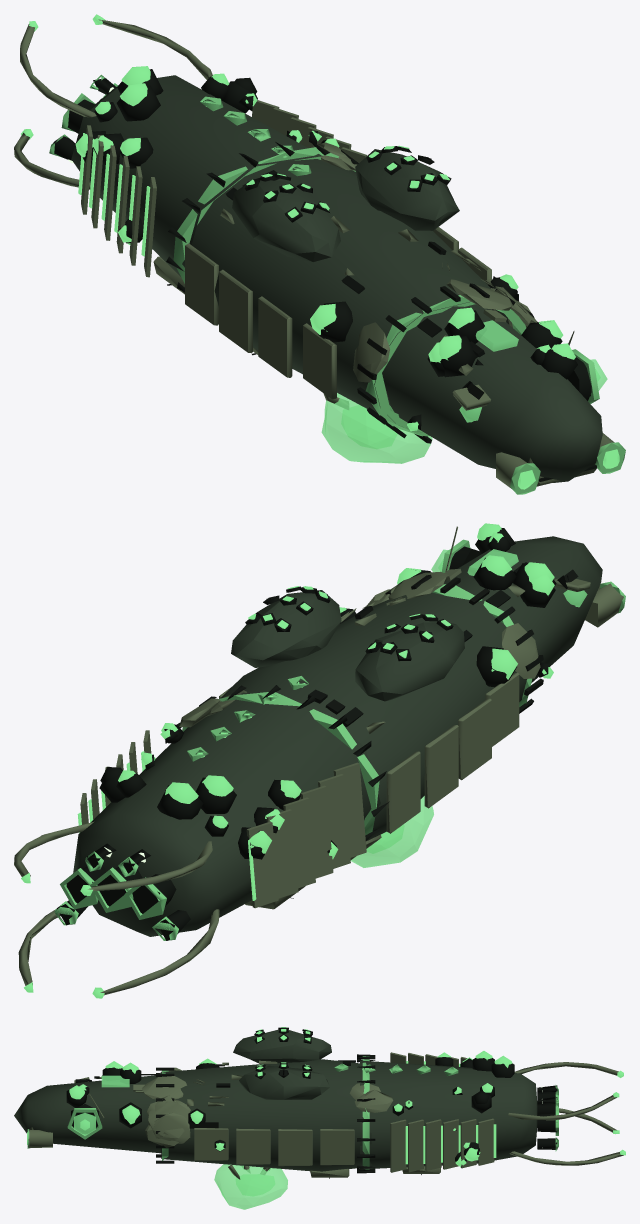
Rendered from zrost-szczepieni-hawk-83-lod1.glb.
3 renders of one model, top to bottom at view 1: azimuth 30°, elevation 25°; view 2: azimuth 150°, elevation 25°; view 3: azimuth 270°, elevation 25°, orthographic. The views are drawn at different scales.
Size of the model in its own units: 18.44 by 21.5 by 75.93.
